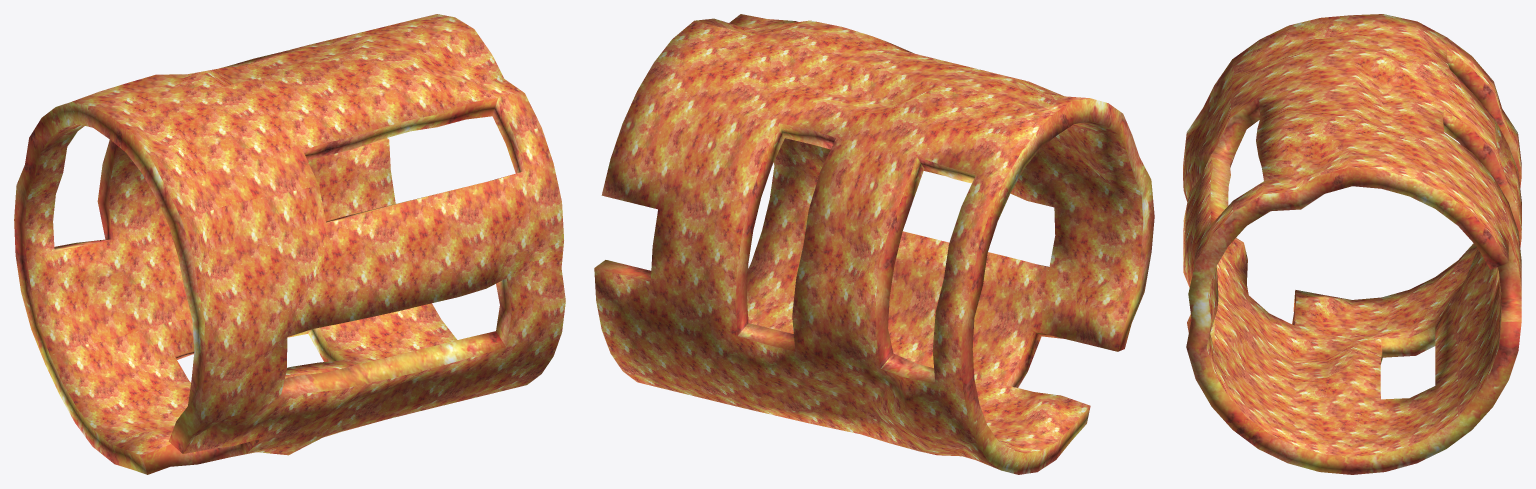
File: SM_ICE_06_00.fbx
3 views of the same model, side by side, from view 1: azimuth 30°, elevation 25°; view 2: azimuth 150°, elevation 25°; view 3: azimuth 270°, elevation 25° (orthographic). The views are drawn at different scales.
Visible parts, largest first — view 1: SM_ICE_06_00.002; view 2: SM_ICE_06_00.002; view 3: SM_ICE_06_00.002.
Boxes of the visible parts, left/top/right/bottom form: SM_ICE_06_00.002: left=14, top=14, right=565, bottom=474; SM_ICE_06_00.002: left=594, top=14, right=1154, bottom=474; SM_ICE_06_00.002: left=1183, top=14, right=1521, bottom=474.
Size of the model in its own units: 2373 by 2174 by 2157.
